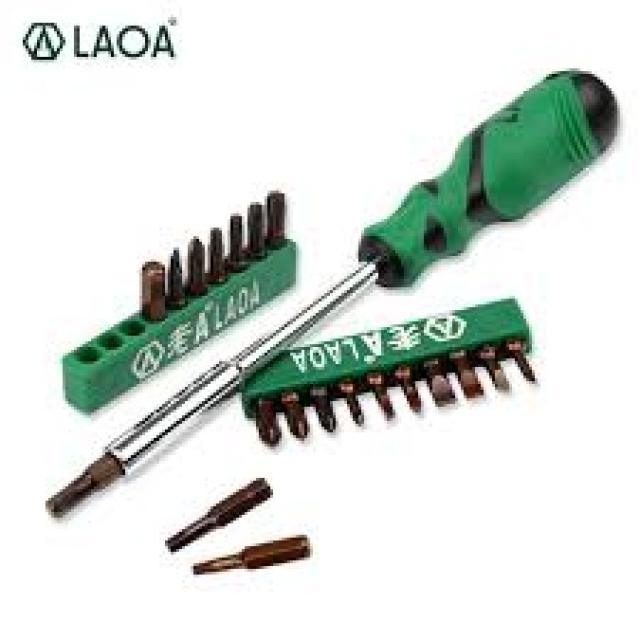screwdriver: (37, 60, 623, 518)
